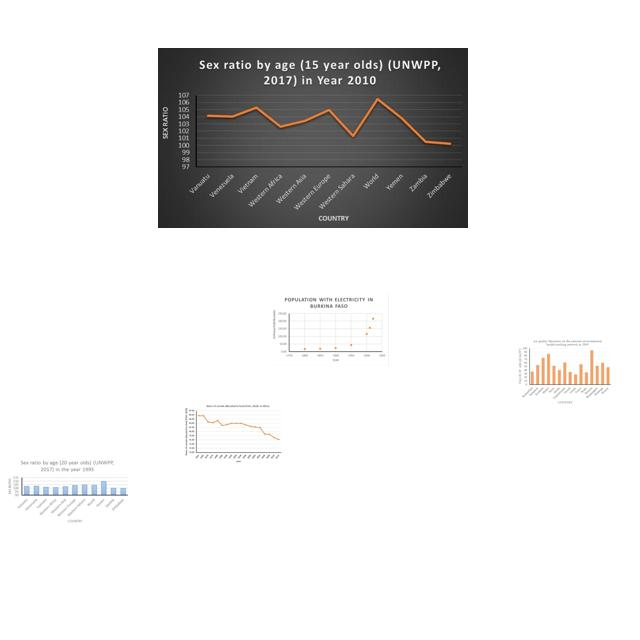Graph: (158, 48, 468, 228), (3, 457, 130, 525), (270, 294, 389, 366), (517, 338, 612, 405), (183, 403, 283, 464)
